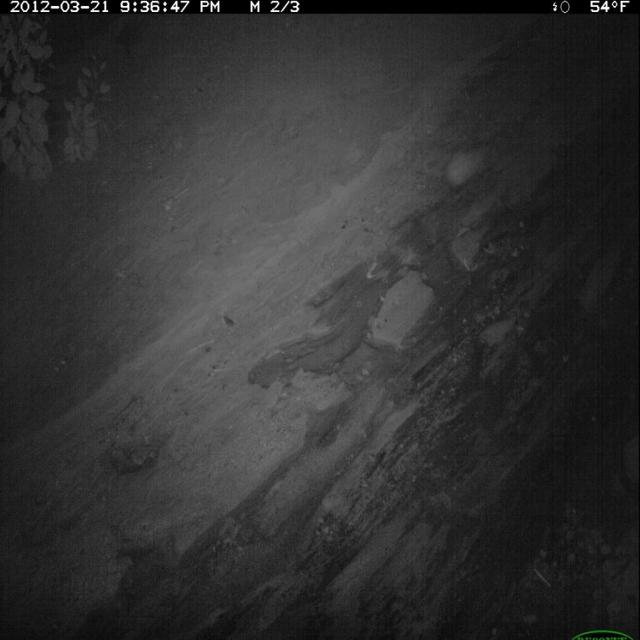opossum: (433, 139, 496, 203)
